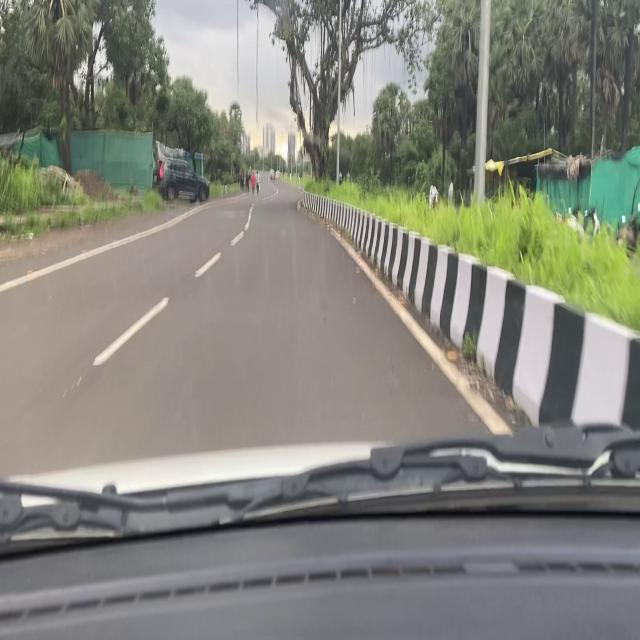lane: (299, 199, 508, 434), (61, 214, 275, 394), (1, 190, 244, 296)
